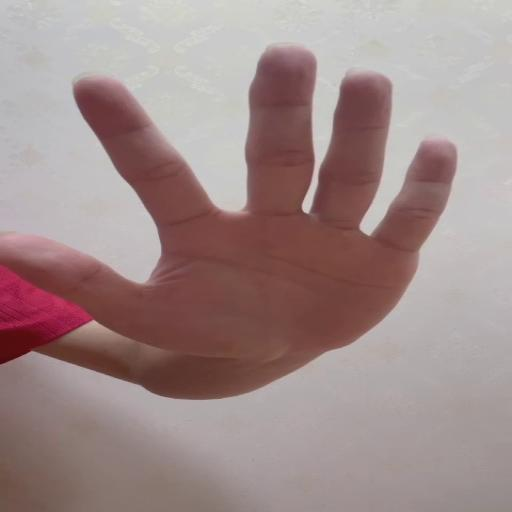open_palm: (0, 42, 459, 352)
